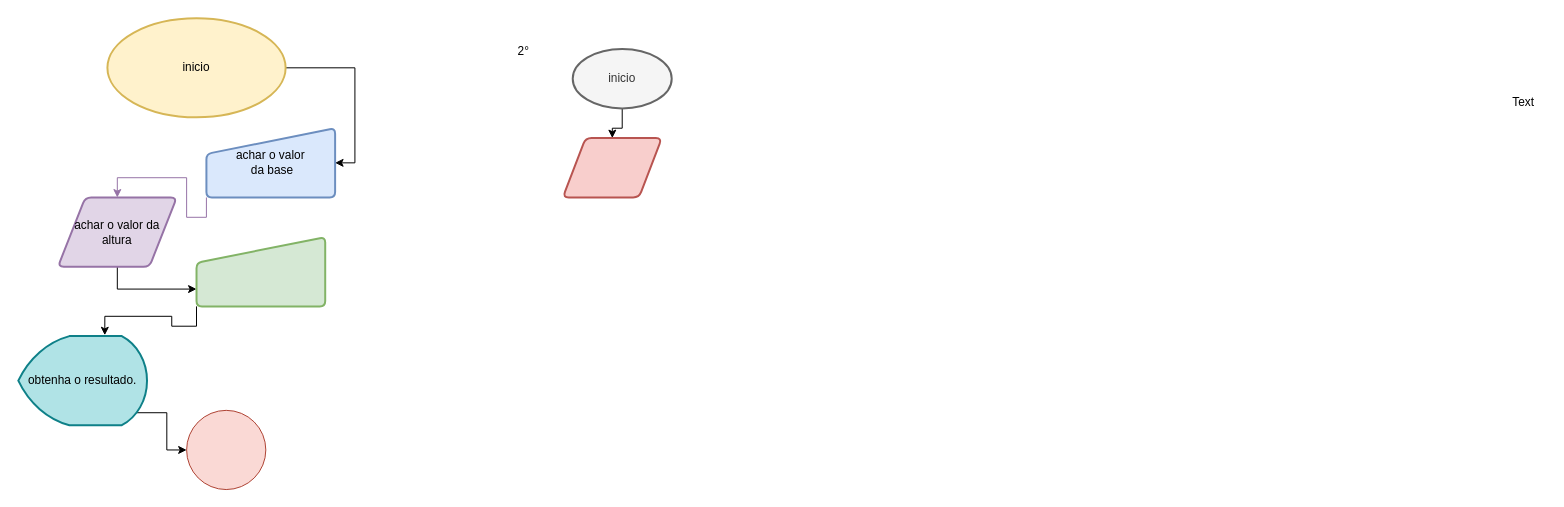
Some shapes in this 1564 by 507 pixel diagram are drawn without their labels. Here are the shapes that lost their labels. From the top down, the centre of each, then its label:
the point at 260,271: realize o calculo entre ele
the point at 226,449: fim
